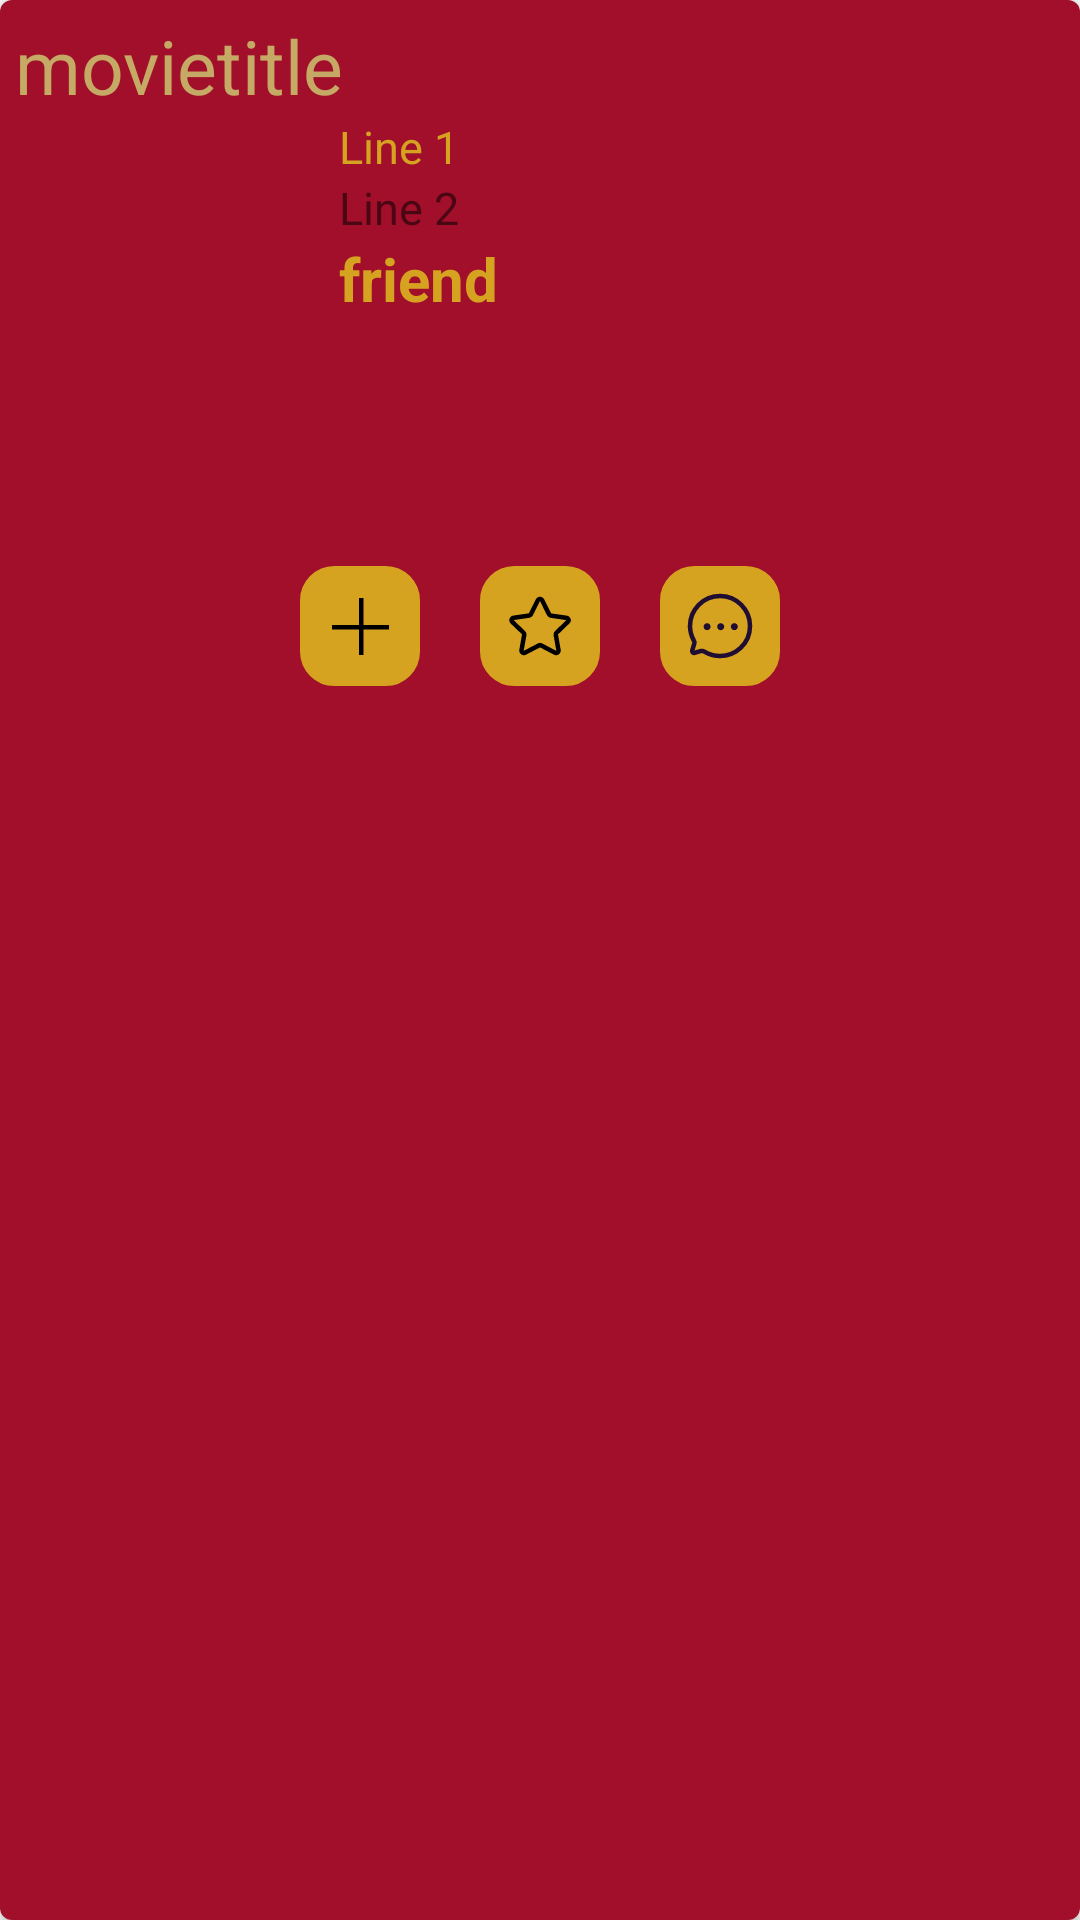

Point at icon controls on the screen. Image size 1080px x 1920px, points as [x,y].
add: [360,626]
chat: [720,626]
star: [540,626]
